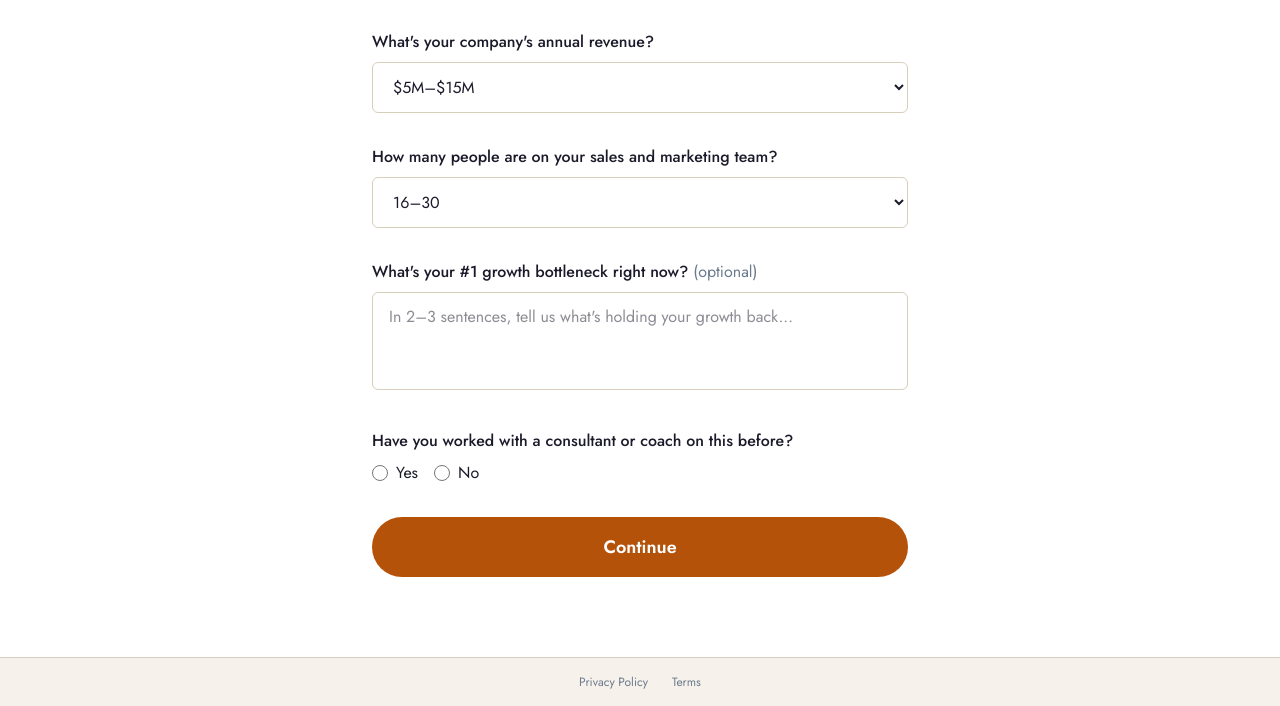
it: BookPageClient scan prefill › prefills step 1 selects and step 2 identity from a stored scan
(page scrolled)
Expected: the dropdown named "revenue" below "What's your company's annual revenue?" shows "$5M–$15M", [372, 62, 908, 113]
Expected: the 2nd dropdown named "teamSize" shows "16–30", [372, 177, 908, 228]
What coordinates should you click on to do the following:
click the button "Continue"
I would click on:
 (640, 547)
Its box is [372, 517, 908, 577].
(page scrolled)
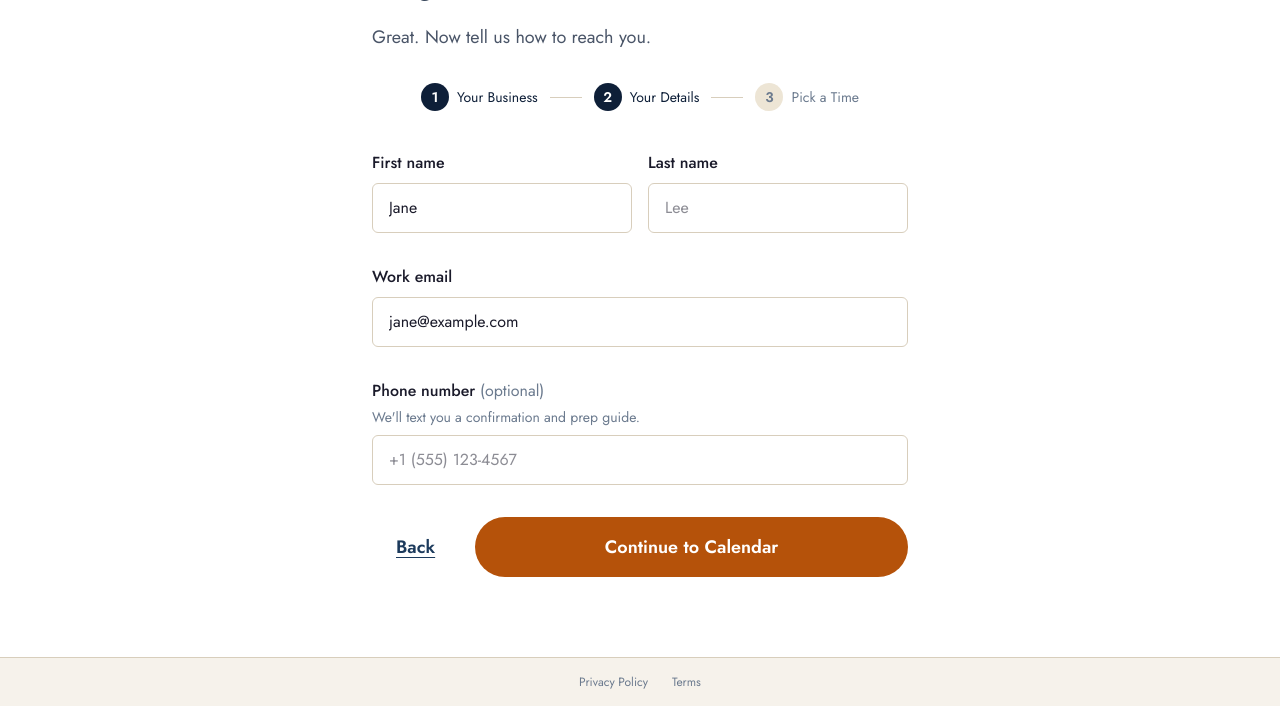
Result: the field named "firstName" below "First name" holds "Jane" at [372, 183, 632, 233]
Result: the field named "email" below "Work email" holds "jane@example.com" at [372, 297, 908, 347]
Result: the field named "lastName" is empty at [648, 183, 908, 233]
